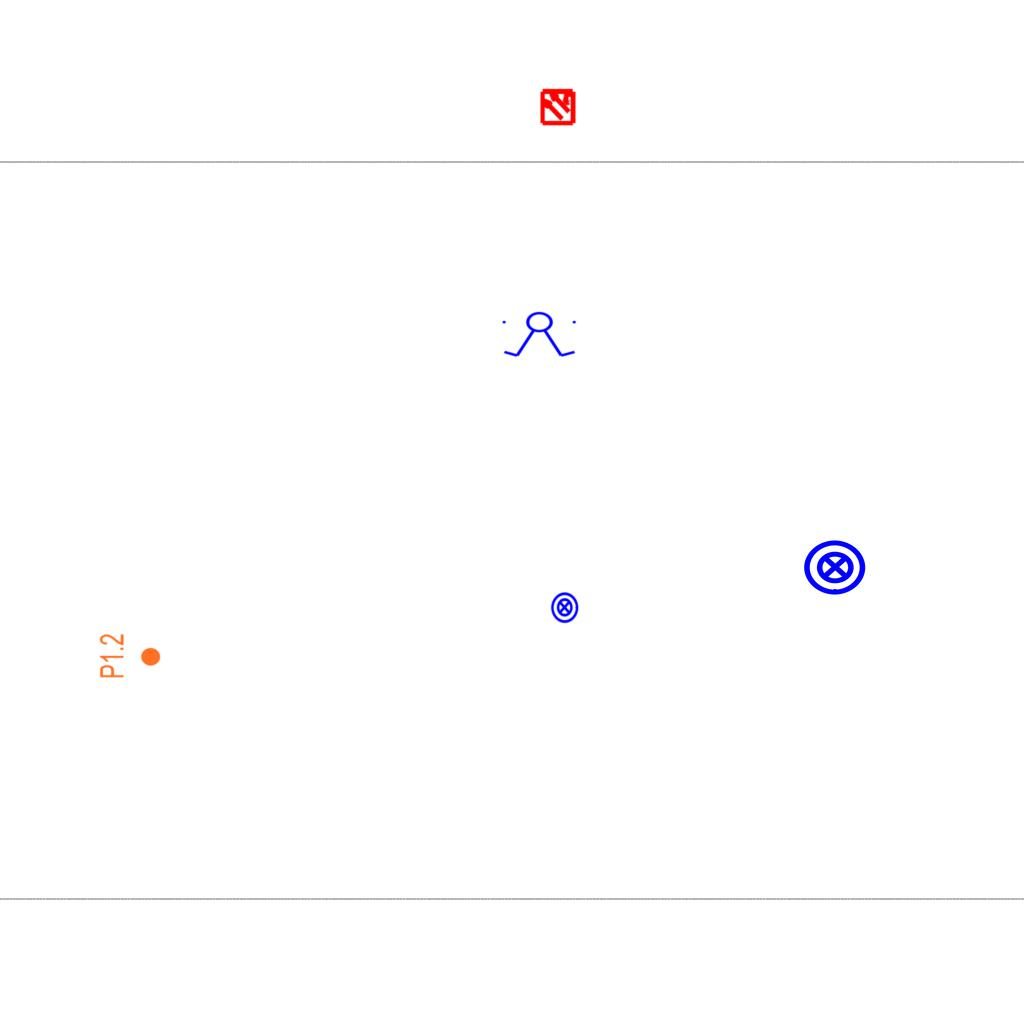Downlight_LED_Einbauleuchten_Flur: (98, 633, 162, 679)
OT_Multisensormelder_(Kombination_RMO_WMD): (530, 78, 586, 134)
Serienschalter: (498, 311, 582, 359)
Taster_beleuchtet: (802, 534, 868, 600), (548, 591, 581, 624)
